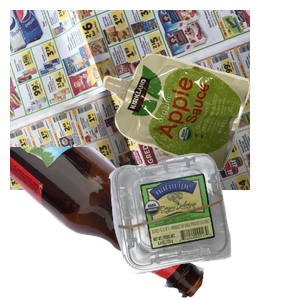glass: (10, 147, 207, 300)
paper: (10, 10, 250, 190)
plastic: (106, 151, 300, 300)
trash: (100, 51, 300, 214)
